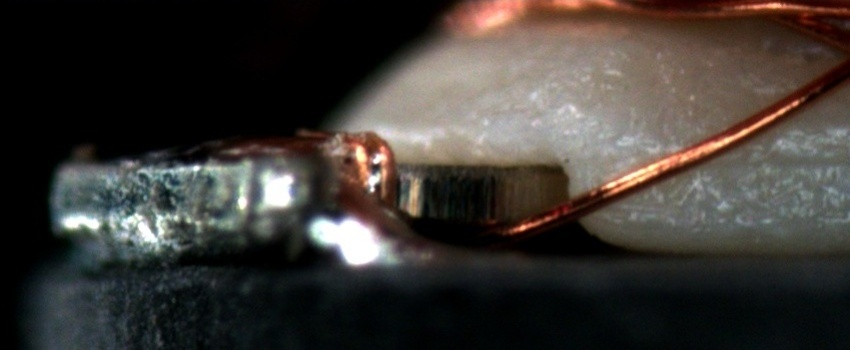DL: (709, 131, 849, 193)
TE: (327, 124, 403, 214)
